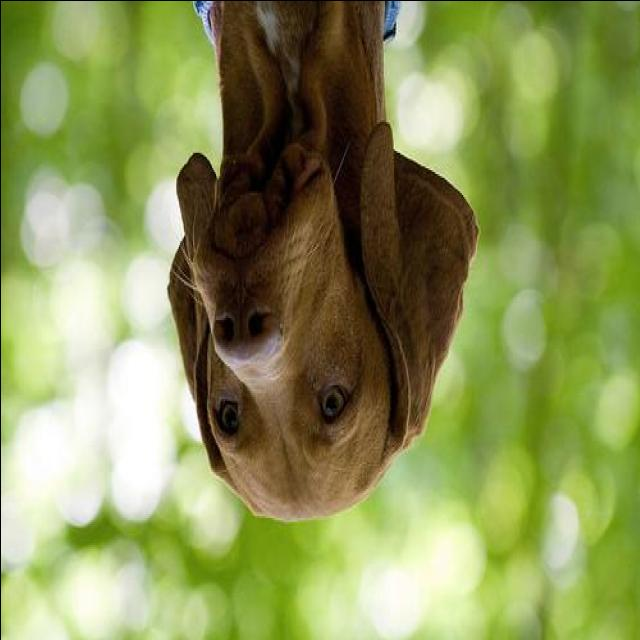vizsla: (163, 2, 478, 526)
